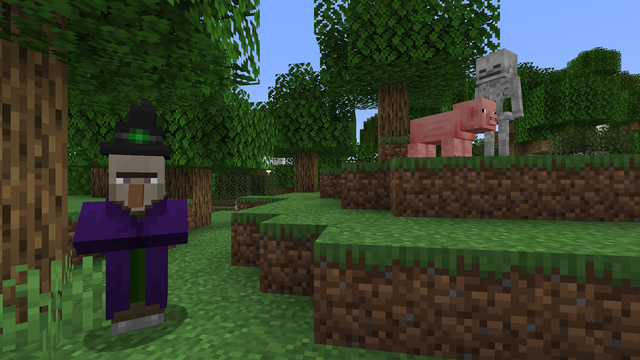cochons: (413, 109, 474, 152)
sorcieres: (89, 146, 181, 342)
squelettes: (473, 48, 522, 136)
